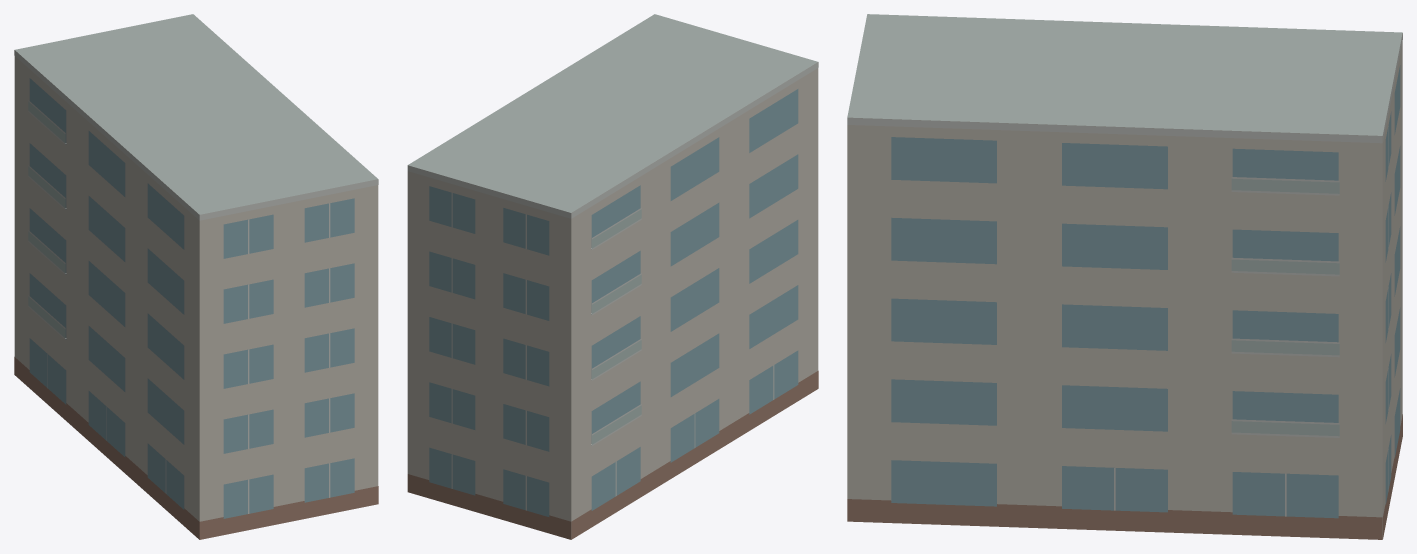
Rendered from survey-upis-32769132.glb.
3 renders of one model, left to right at view 1: azimuth 30°, elevation 25°; view 2: azimuth 150°, elevation 25°; view 3: azimuth 270°, elevation 25°, orthographic. The views are drawn at different scales.
Visible parts, largest first — view 1: survey-upis-32769132.tmp; view 2: survey-upis-32769132.tmp; view 3: survey-upis-32769132.tmp.
Boxes of the visible parts, x1=… form: survey-upis-32769132.tmp: x1=14, y1=14, x2=378, y2=539; survey-upis-32769132.tmp: x1=407, y1=14, x2=818, y2=539; survey-upis-32769132.tmp: x1=847, y1=14, x2=1402, y2=539.
Bounding box in the file's own units: 8.75 × 13.5 × 16.84.
